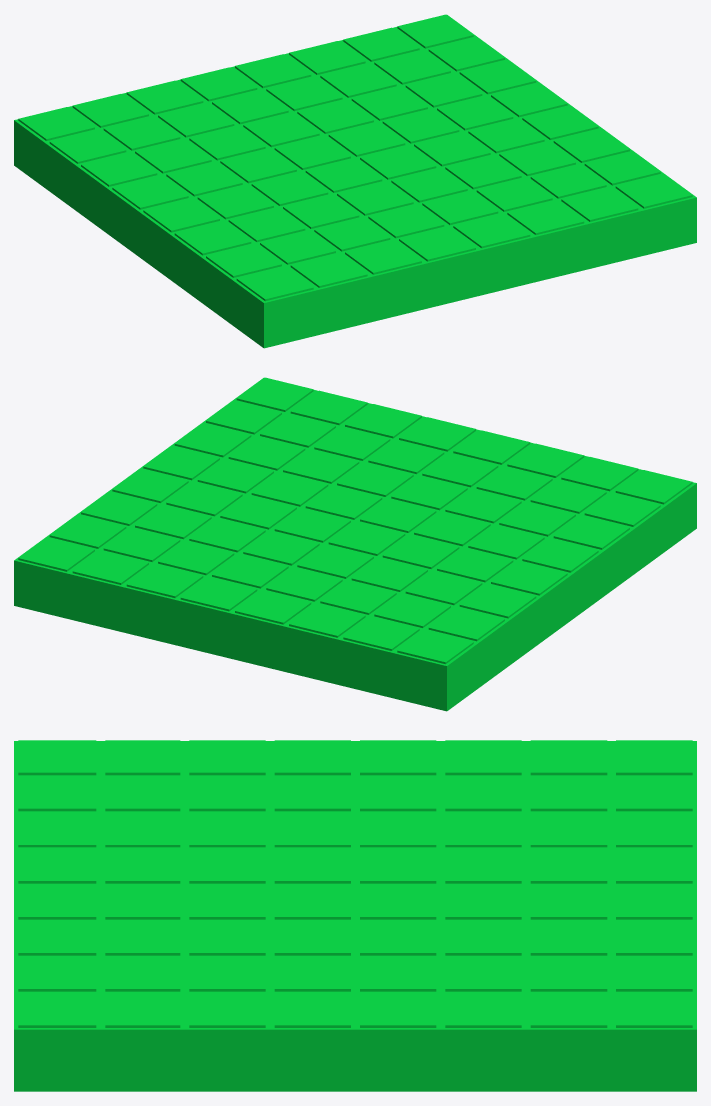
File: PokeChess_BattleField_V1.fbx
The picture shows the model from 3 angles, top to bottom: view 1: azimuth 30°, elevation 25°; view 2: azimuth 150°, elevation 25°; view 3: azimuth 270°, elevation 25°; orthographic projection. The views are drawn at different scales.
Visible parts, largest first — view 1: Cube.001, Cube; view 2: Cube.001, Cube; view 3: Cube.001, Cube.
Part boxes in pixels (<box>): Cube.001: <box>19,14,691,299</box>; Cube: <box>14,14,696,348</box>; Cube.001: <box>19,377,691,662</box>; Cube: <box>14,377,696,711</box>; Cube.001: <box>18,740,692,1025</box>; Cube: <box>14,741,696,1091</box>.
Bounding box in the file's own units: 1000 × 104 × 1000.
